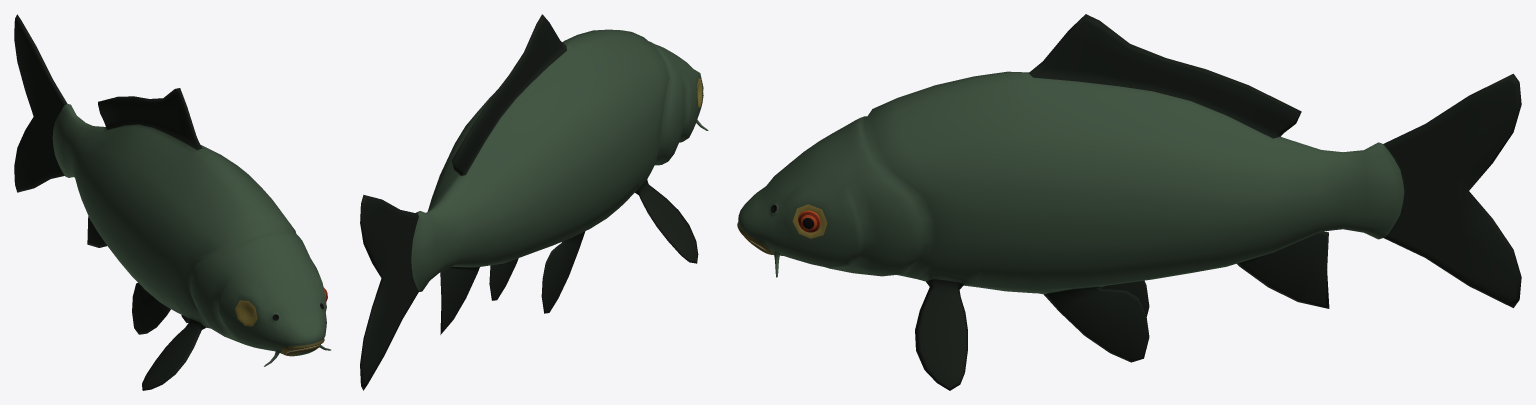
Rendered from carp_fish.obj.
3 renders of one model, left to right at view 1: azimuth 30°, elevation 25°; view 2: azimuth 150°, elevation 25°; view 3: azimuth 270°, elevation 25°, orthographic. The views are drawn at different scales.
Visible parts, largest first — view 1: carp; view 2: carp; view 3: carp.
Part boxes in pixels (x1=…): carp: x1=14, y1=14, x2=330, y2=390; carp: x1=360, y1=14, x2=708, y2=390; carp: x1=737, y1=14, x2=1521, y2=390.
Size of the model in its own units: 0.1559 by 0.2119 by 0.4518.
